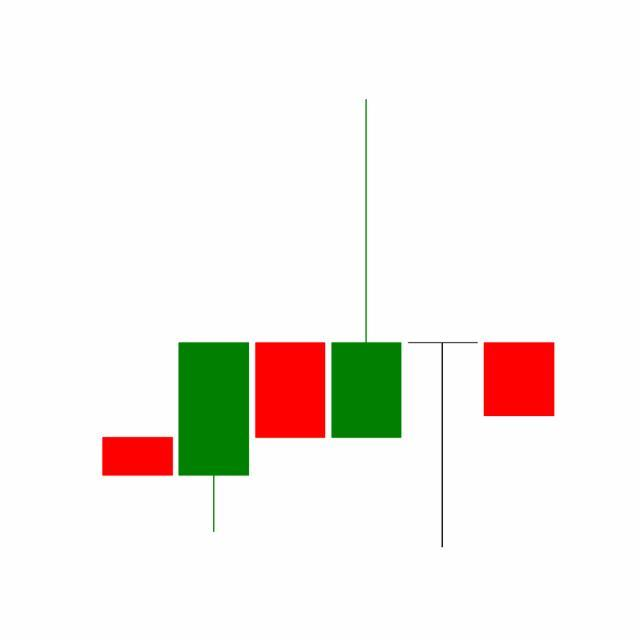Hammer: (404, 340, 482, 550)
